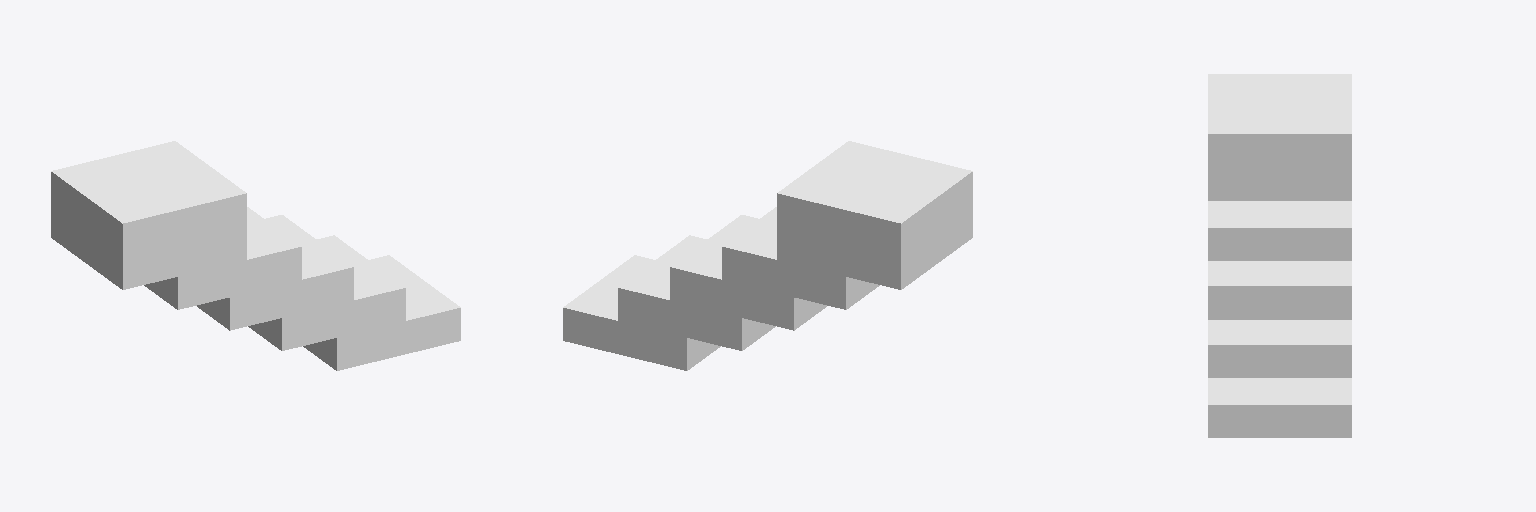
File: góra1.obj
3 views of the same model, side by side, from view 1: azimuth 30°, elevation 25°; view 2: azimuth 150°, elevation 25°; view 3: azimuth 270°, elevation 25° (orthographic).
Parts seen in each view (by area): view 1: object 1; view 2: object 1; view 3: object 1.
Part boxes in pixels (x1,y1,x2,y2): object 1: (51,141,460,370); object 1: (563,141,972,370); object 1: (1208,74,1351,437).
Bounding box in the file's own units: 11.7 × 6.6 × 4.3.